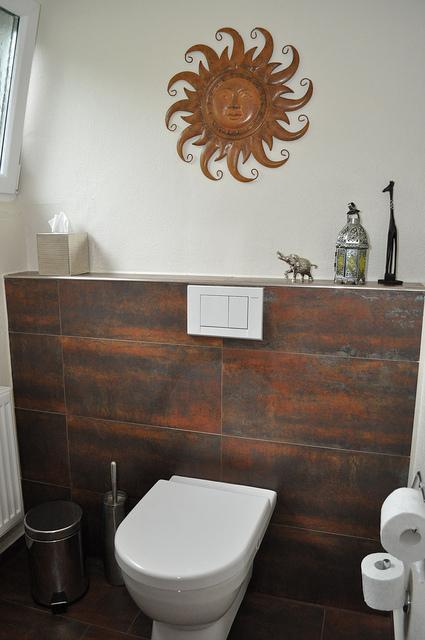Bote de Basura: (15, 494, 89, 608)
Sanitario: (109, 461, 275, 639)
